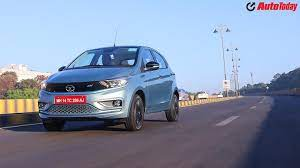Tiago: (36, 43, 182, 135)
